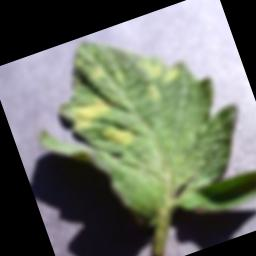Leaf_Mold: (133, 46, 189, 104), (61, 90, 116, 135), (94, 116, 138, 155)
